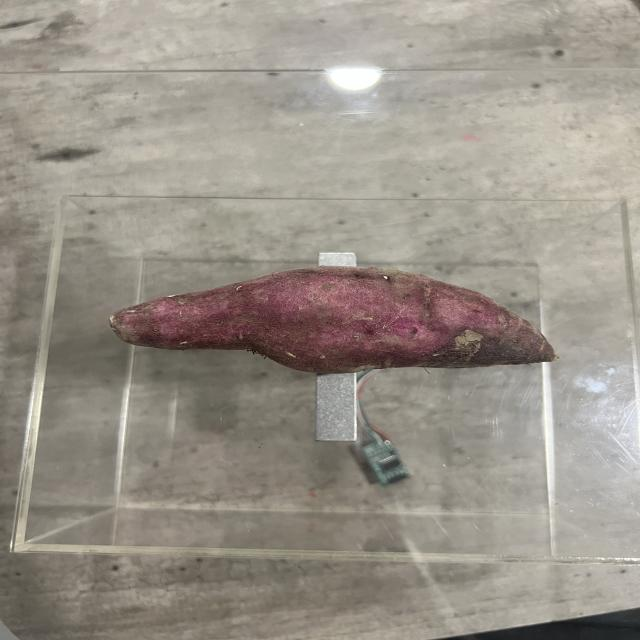sweet potato: (117, 261, 553, 369)
